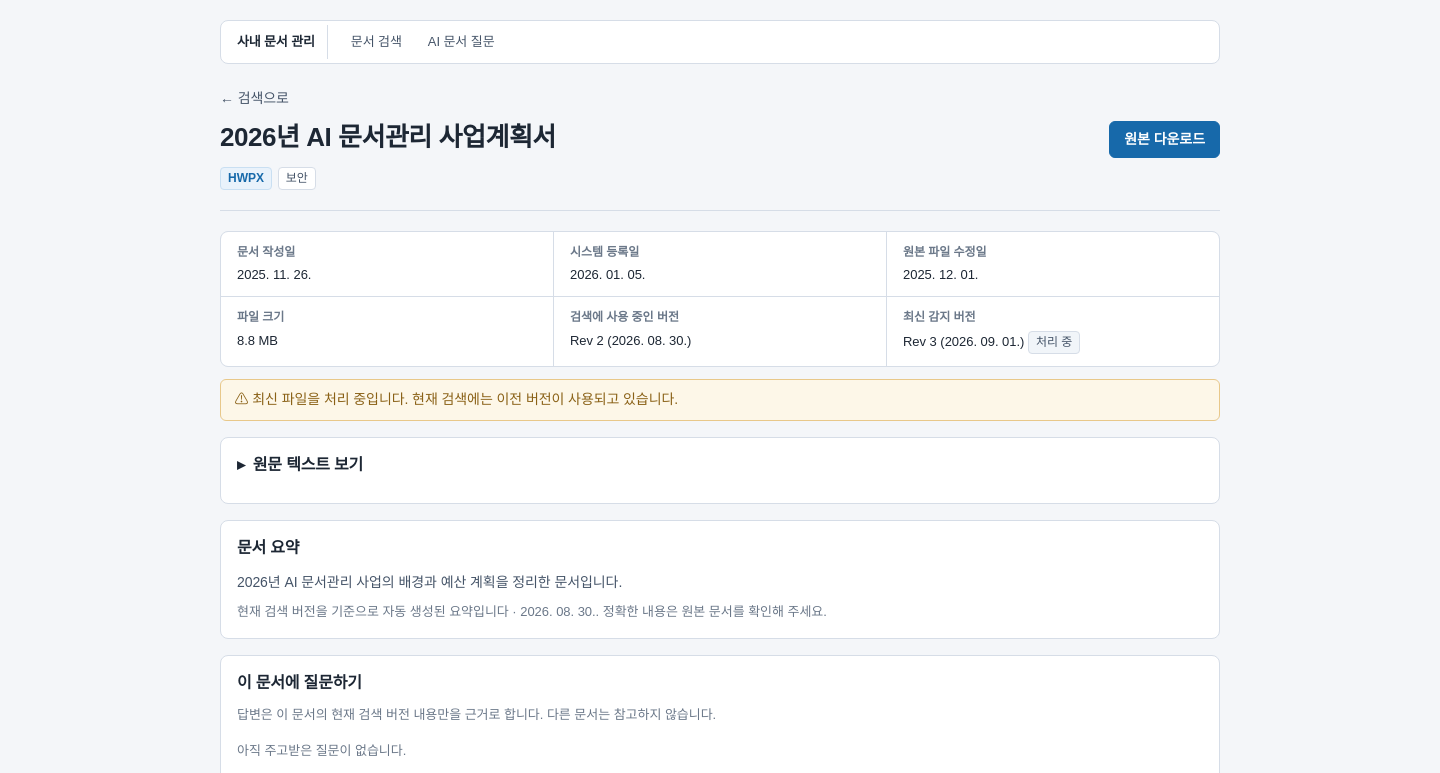
DocumentPage › shows the server error message when a download is refused
The width and height of the screenshot is (1440, 773).
What coordinates should you click on to do the following:
click the button "원본 다운로드"
I would click on:
 (1165, 140)
Its box is [1109,121,1220,158].
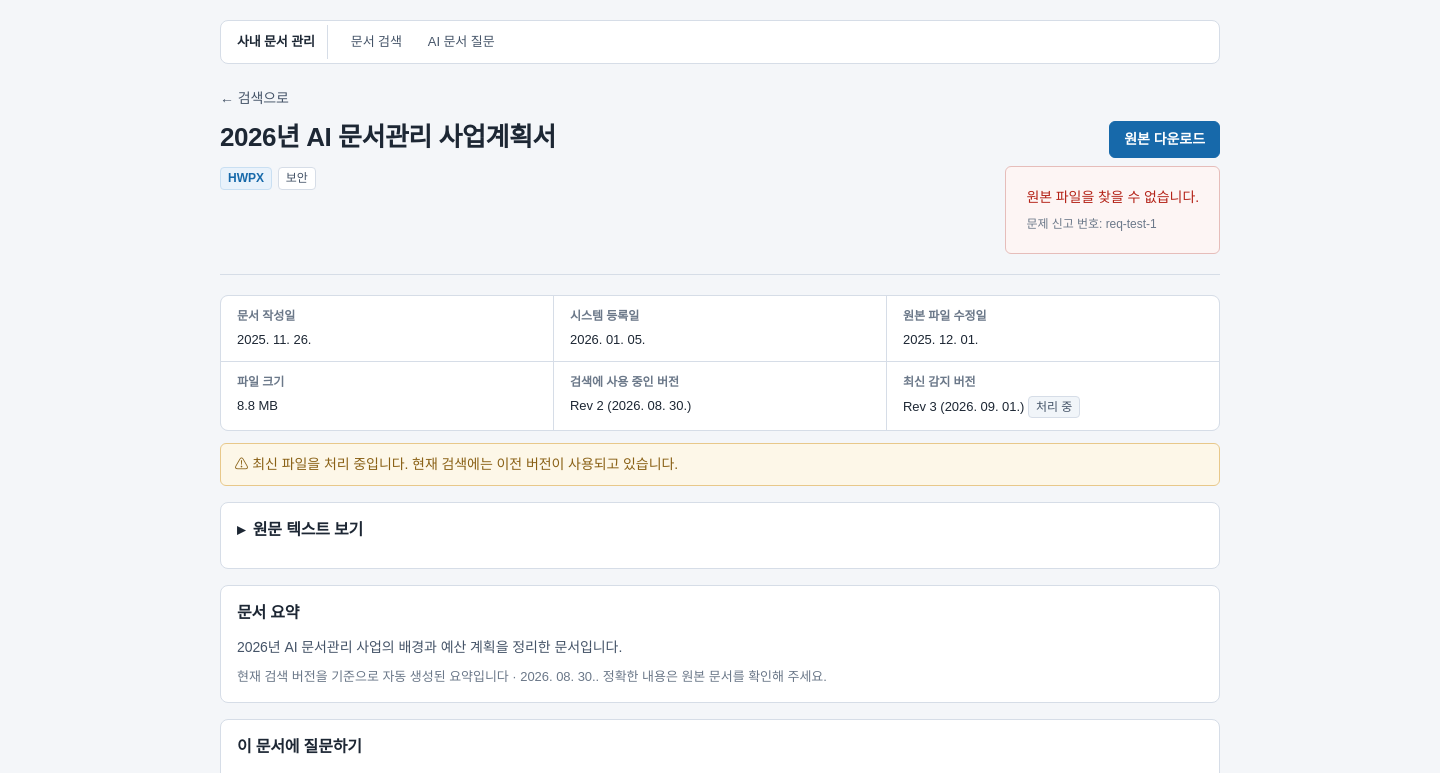
Expected: the message "원본 파일을 찾을 수 없습니다. 문제 신고 번호: req-test-1" is shown, [1005,166,1220,254]
